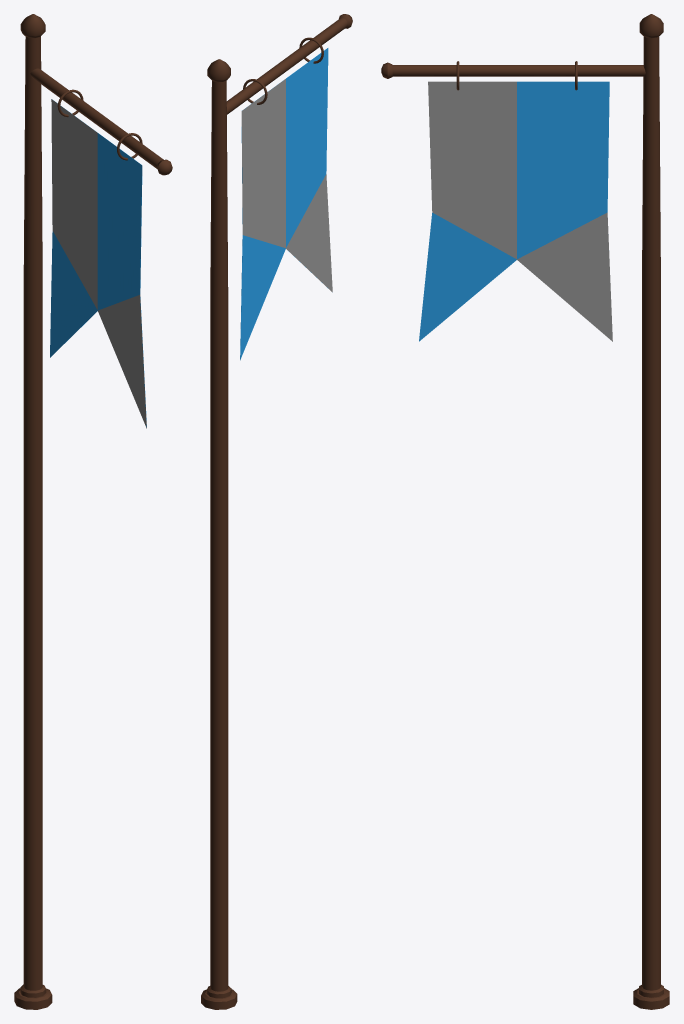
The model's file is Flag_blue_white.obj.
The picture shows the model from 3 angles, left to right: view 1: azimuth 30°, elevation 25°; view 2: azimuth 150°, elevation 25°; view 3: azimuth 270°, elevation 25°; orthographic projection. The views are drawn at different scales.
Visible parts, largest first — view 1: Tube001, Box004, Box003, Box002, Tube002, ChamferCyl002, ChamferCyl003; view 2: Tube001, Box004, Box003, Box002, Tube002, ChamferCyl002, ChamferCyl003; view 3: Box004, Tube001, Box002, Box001, Tube002.
Boxes of the visible parts, left/top/right/bottom form: Tube001: left=23, top=36, right=42, bottom=990; Box004: left=51, top=99, right=146, bottom=428; Box003: left=50, top=102, right=142, bottom=357; Box002: left=50, top=176, right=142, bottom=357; Tube002: left=30, top=68, right=163, bottom=168; ChamferCyl002: left=14, top=988, right=52, bottom=1009; ChamferCyl003: left=20, top=14, right=45, bottom=37; Tube001: left=210, top=80, right=228, bottom=991; Box004: left=241, top=79, right=332, bottom=292; Box003: left=241, top=48, right=328, bottom=247; Box002: left=240, top=235, right=285, bottom=360; Tube002: left=226, top=18, right=347, bottom=114; ChamferCyl002: left=201, top=989, right=237, bottom=1009; ChamferCyl003: left=207, top=59, right=230, bottom=82; Box004: left=428, top=81, right=612, bottom=341; Tube001: left=642, top=36, right=660, bottom=990; Box002: left=517, top=81, right=609, bottom=259; Box001: left=419, top=212, right=516, bottom=341; Tube002: left=392, top=65, right=645, bottom=76.
Bounding box in the file's own units: 2.58 × 73.53 × 19.44.
